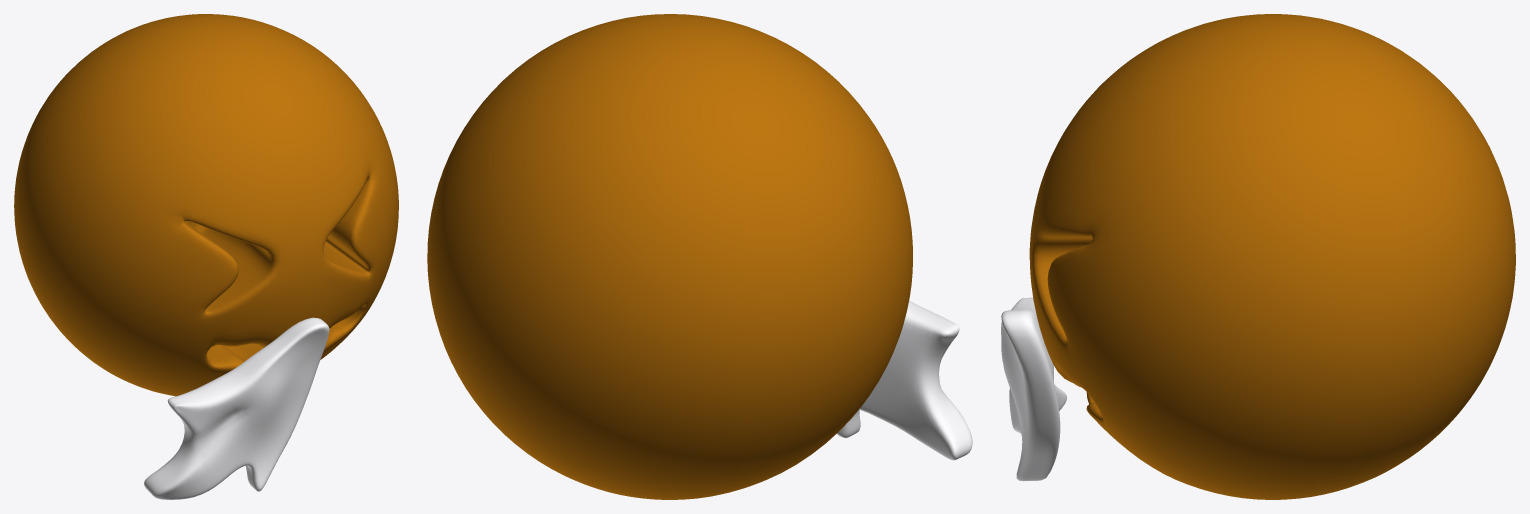
The model's file is blowing FBX.FBX.
3 views of the same model, side by side, from view 1: azimuth 30°, elevation 25°; view 2: azimuth 150°, elevation 25°; view 3: azimuth 270°, elevation 25° (orthographic). The views are drawn at different scales.
Parts seen in each view (by area): view 1: Group50210, Group52937; view 2: Group50210, Group52937; view 3: Group50210, Group52937.
Boxes of the visible parts, x1,y1,x2,y2 form: Group50210: (14, 14, 398, 396); Group52937: (144, 317, 329, 499); Group50210: (427, 14, 912, 499); Group52937: (837, 300, 972, 460); Group50210: (1029, 14, 1515, 499); Group52937: (1001, 297, 1066, 481).
Bounding box in the file's own units: 20.89 × 22.46 × 22.13.
